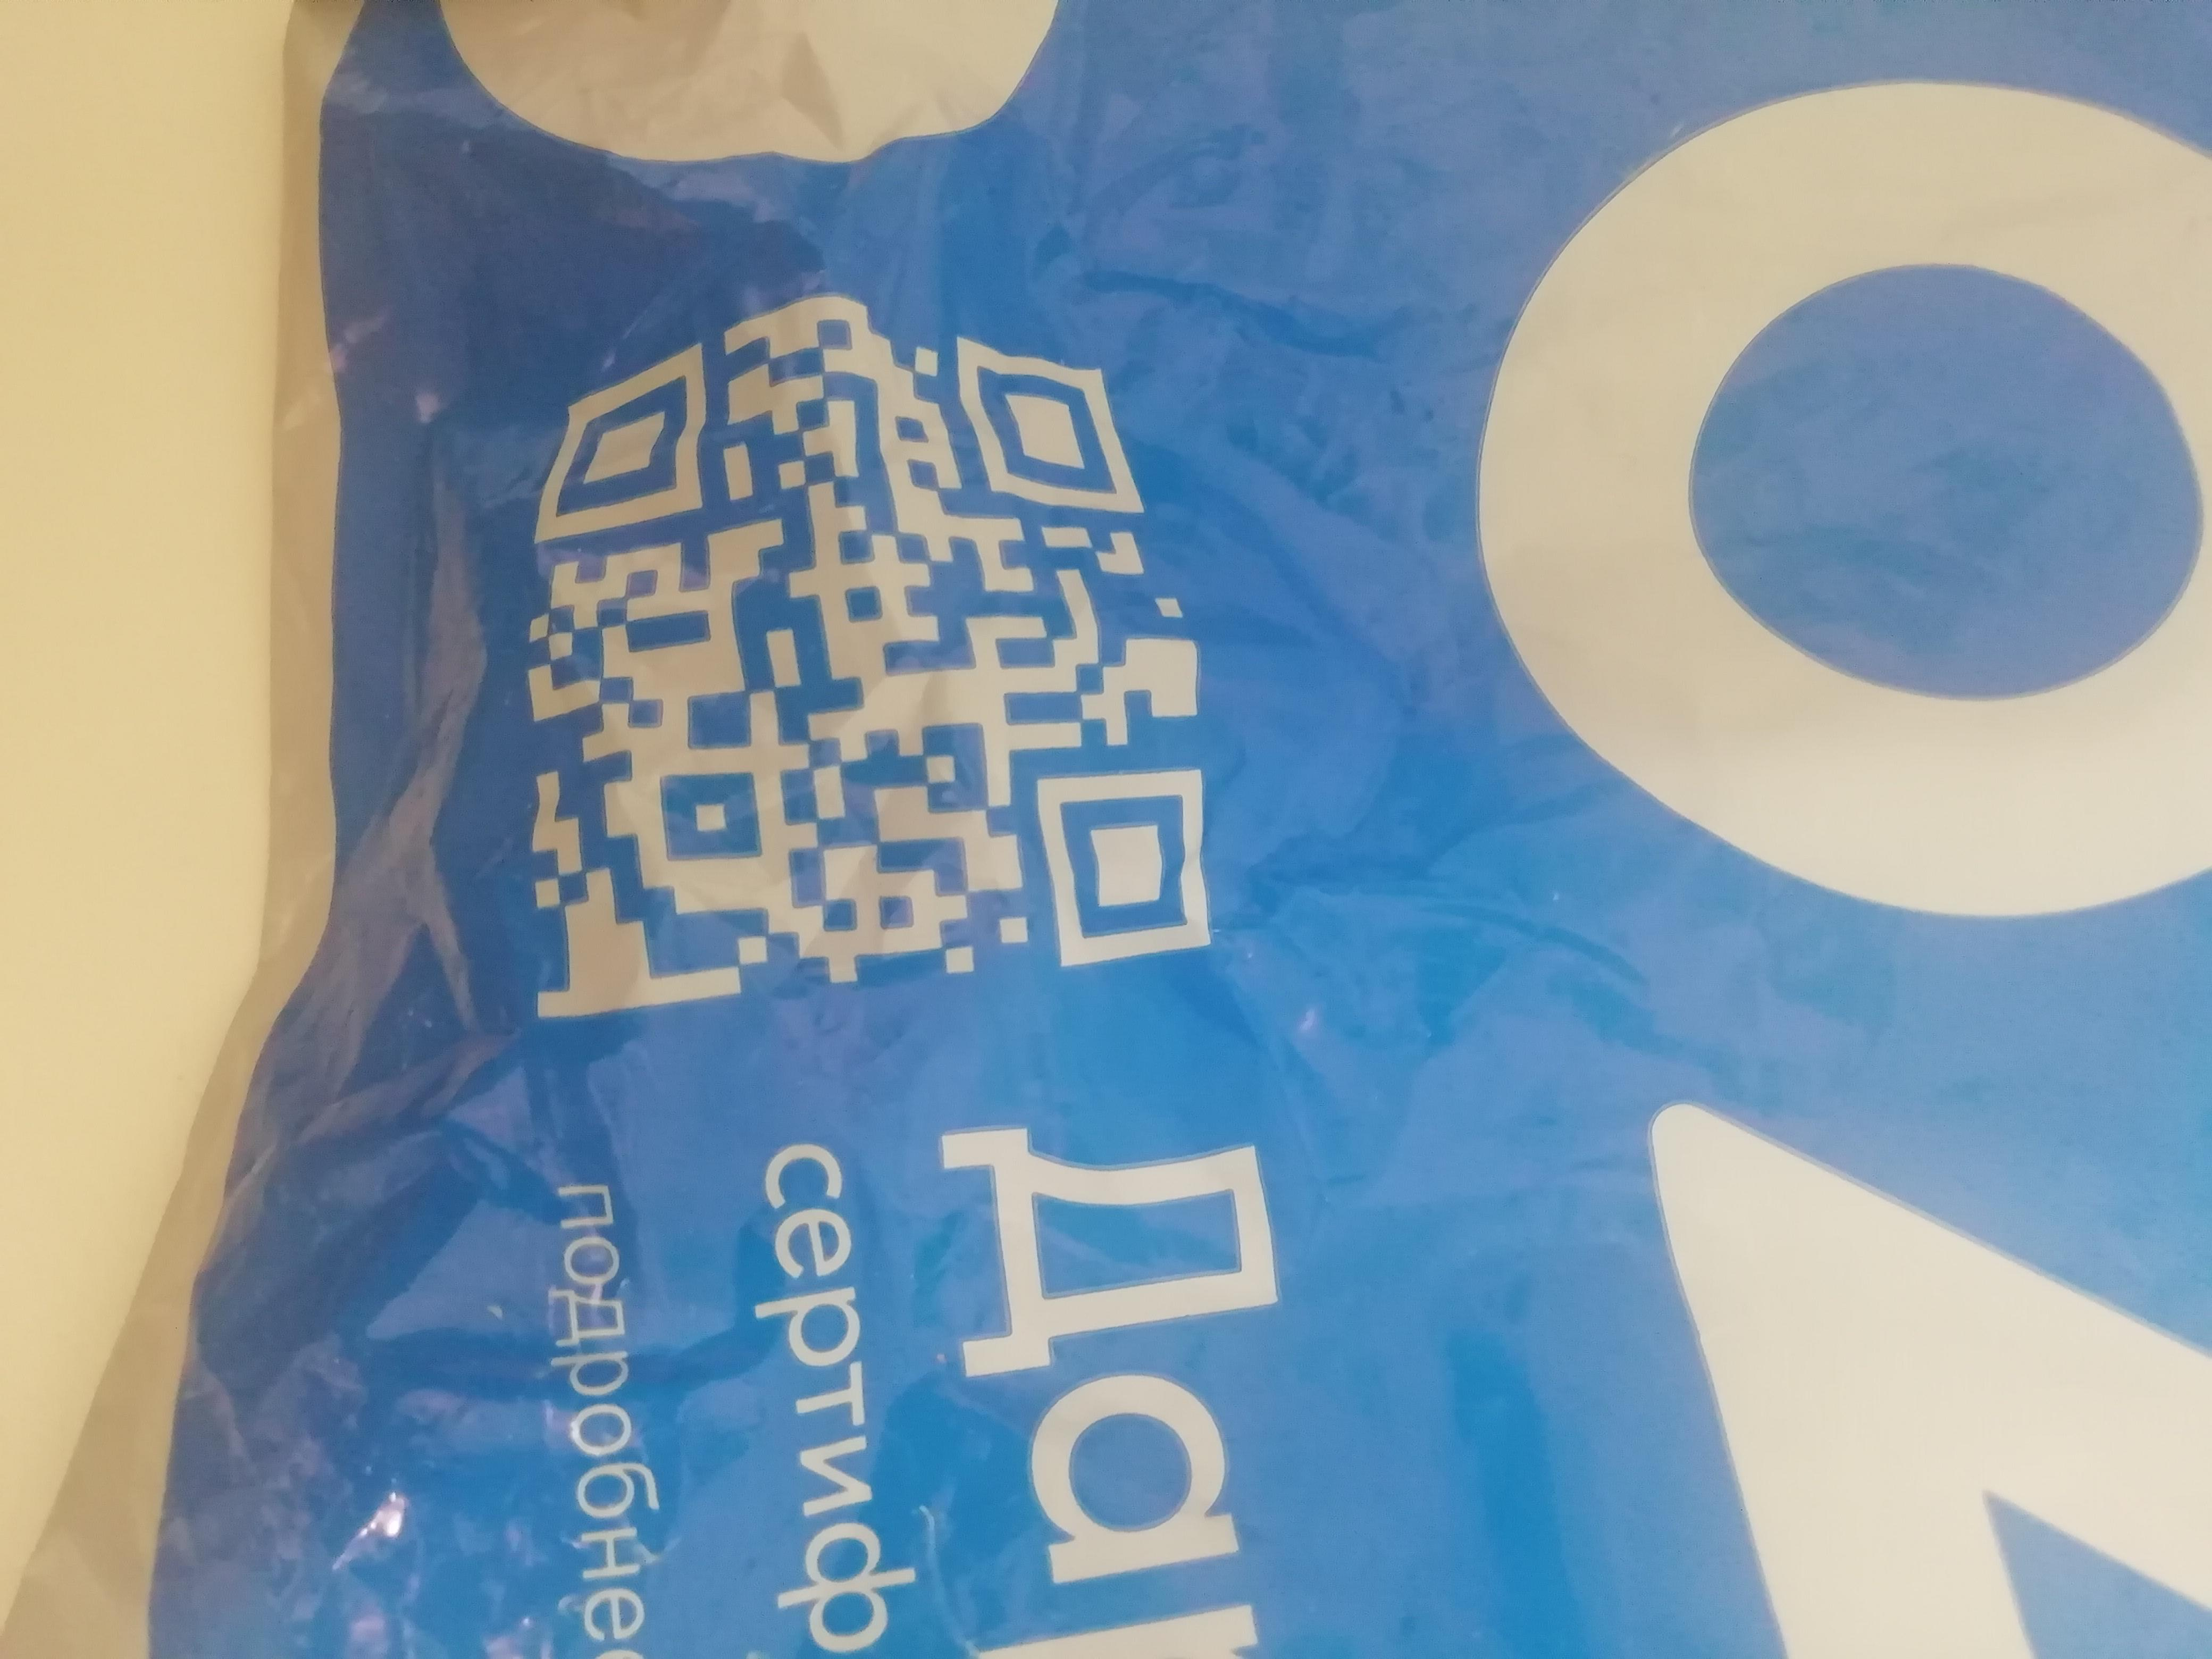qrcode: (529, 288, 1216, 1021)
